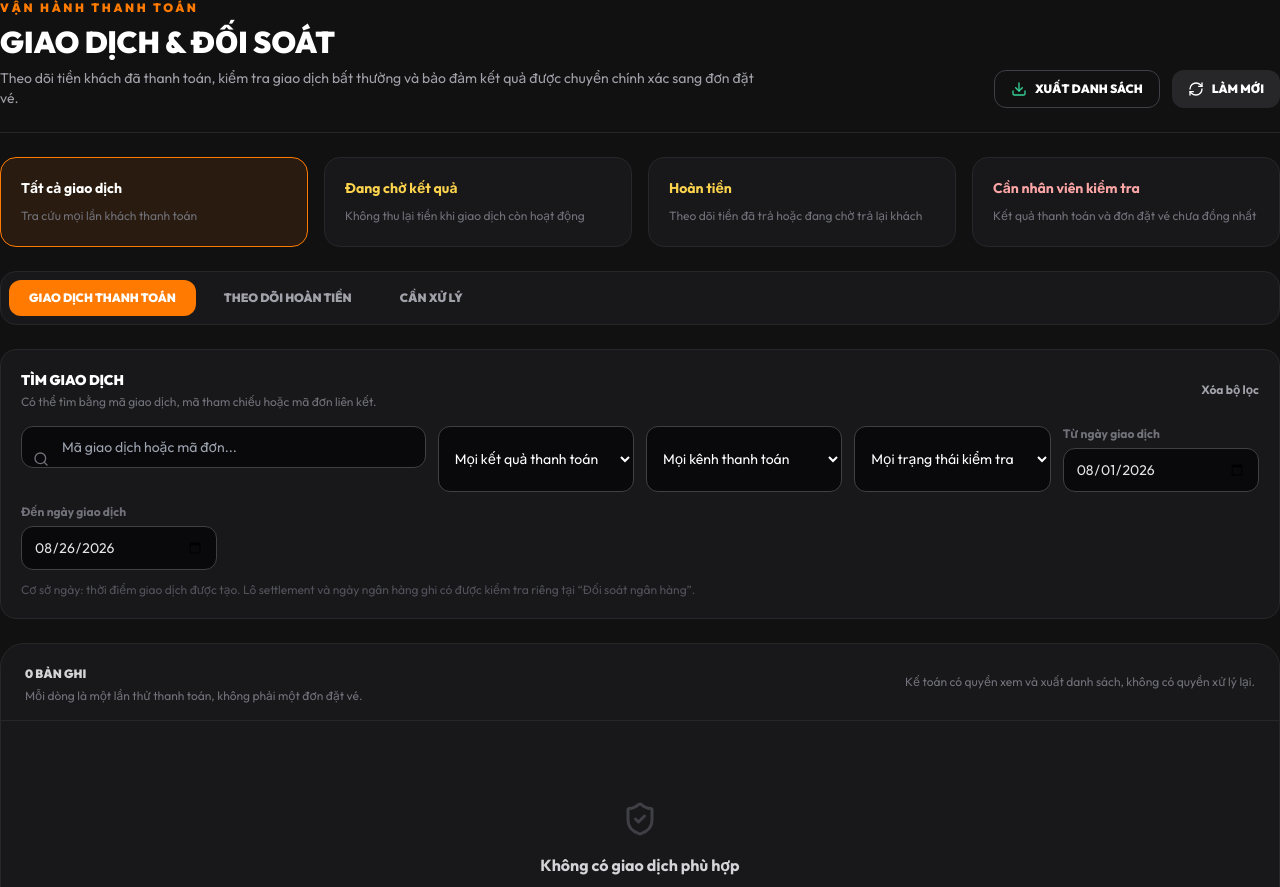
Scenario: AdminPaymentsPage role operations › shows refund state to ACCOUNTANT without mutation controls
Click the button "Theo dõi hoàn tiền" at (288, 298), box [204,280,372,316]
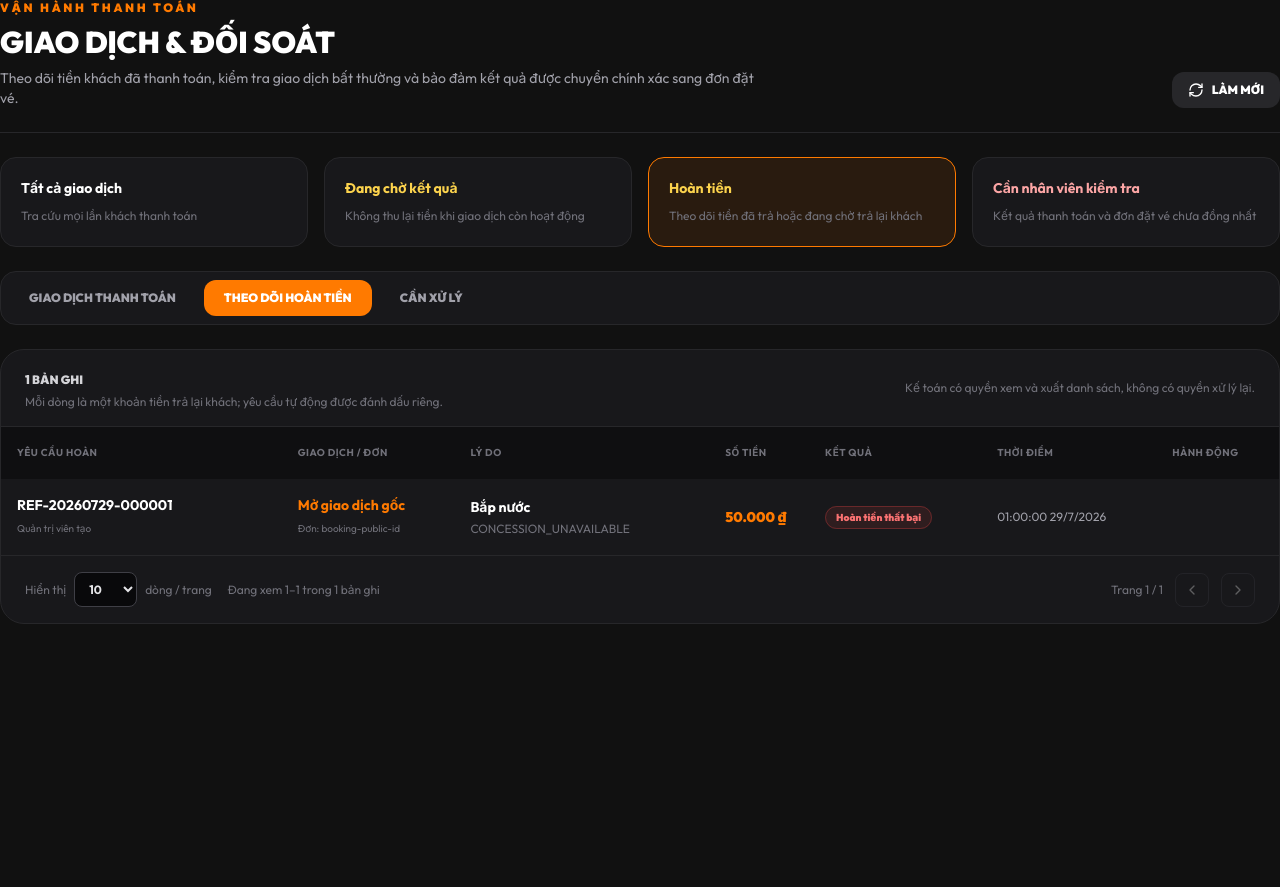
Check: the text "REF-20260729-000001" is shown, box [17,496,172,514]
